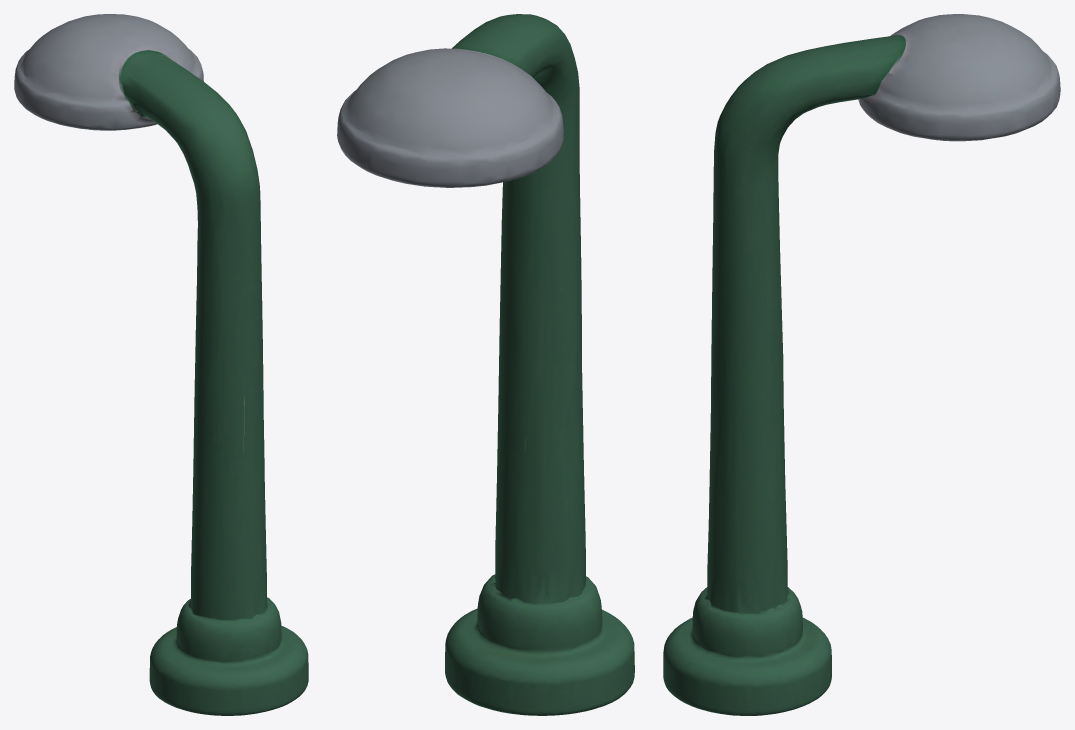
File: lamp.glb
3 renders of one model, left to right at view 1: azimuth 30°, elevation 25°; view 2: azimuth 150°, elevation 25°; view 3: azimuth 270°, elevation 25°, orthographic. The views are drawn at different scales.
Parts seen in each view (by area): view 1: tripo_node_f266a1ad-3397-41f1-acbd-877457d17512; view 2: tripo_node_f266a1ad-3397-41f1-acbd-877457d17512; view 3: tripo_node_f266a1ad-3397-41f1-acbd-877457d17512.
Part boxes in pixels (box(x1,y1,x2,y2)): tripo_node_f266a1ad-3397-41f1-acbd-877457d17512: box(14, 14, 308, 715); tripo_node_f266a1ad-3397-41f1-acbd-877457d17512: box(337, 14, 634, 715); tripo_node_f266a1ad-3397-41f1-acbd-877457d17512: box(663, 14, 1060, 715).
Bounding box in the file's own units: 0.3029 × 0.9814 × 0.5504.
Materials: 1 (1 with a texture image).
